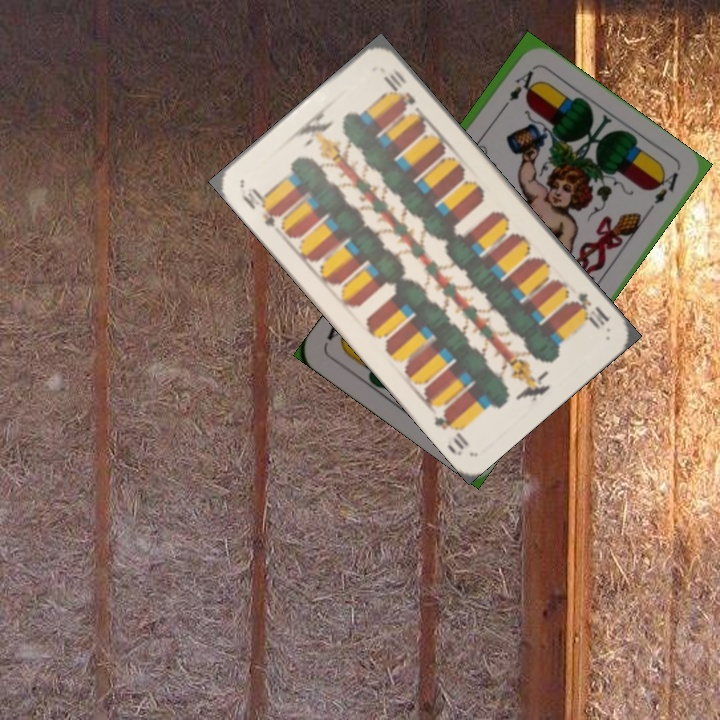E10: (236, 183, 283, 230), (567, 288, 612, 332)
EA: (496, 66, 536, 116)
